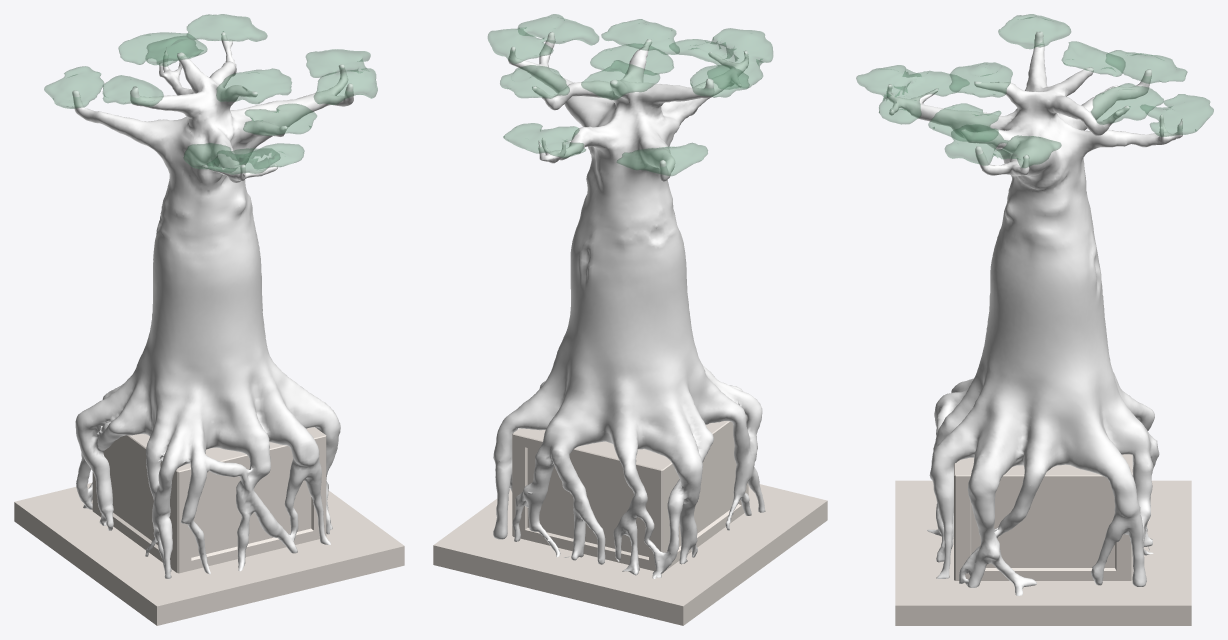
The model's file is Baobab_Website_e10.glb.
The picture shows the model from 3 angles, left to right: view 1: azimuth 30°, elevation 25°; view 2: azimuth 150°, elevation 25°; view 3: azimuth 270°, elevation 25°; orthographic projection. The views are drawn at different scales.
Parts seen in each view (by area): view 1: baum_reduziert.001; view 2: baum_reduziert.001; view 3: baum_reduziert.001.
Part boxes in pixels (box(x1,y1,x2,y2)): baum_reduziert.001: box(14, 14, 404, 625); baum_reduziert.001: box(433, 14, 827, 625); baum_reduziert.001: box(856, 14, 1213, 625).
Size of the model in its own units: 2.22 by 3.77 by 2.42.
